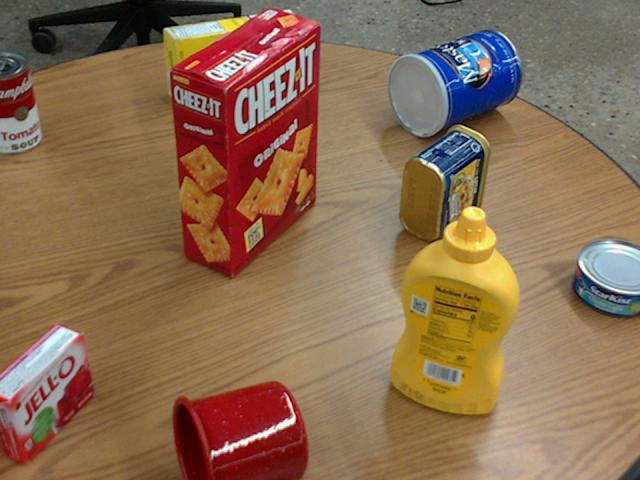cracker_box: (168, 8, 320, 276)
gelatin_box: (0, 323, 90, 463)
master_chef_can: (386, 28, 520, 135)
mug: (168, 381, 306, 479)
mustard_bottle: (389, 206, 518, 413)
potted_meat_can: (399, 123, 489, 239)
sugar_box: (163, 8, 301, 103)
tomato_soup_can: (0, 47, 40, 153)
tuna_fish_can: (570, 238, 639, 316)
